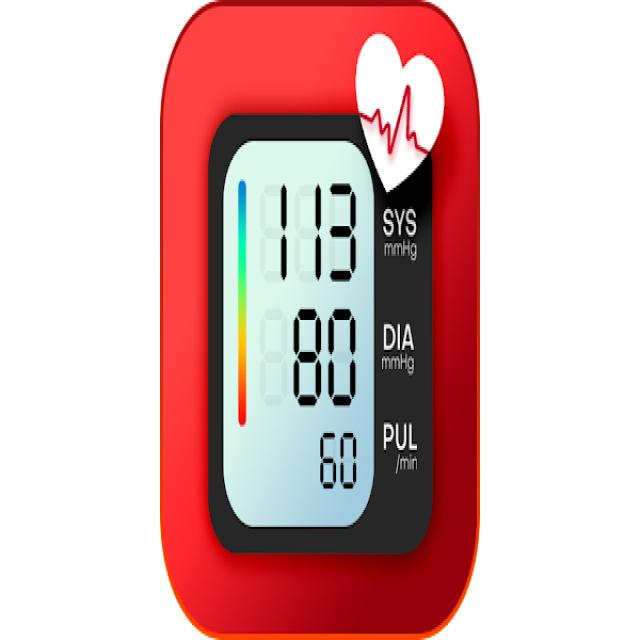dia: (287, 300, 362, 420)
pul: (313, 430, 366, 496)
ssd: (221, 139, 377, 538)
sys: (270, 163, 361, 286)
